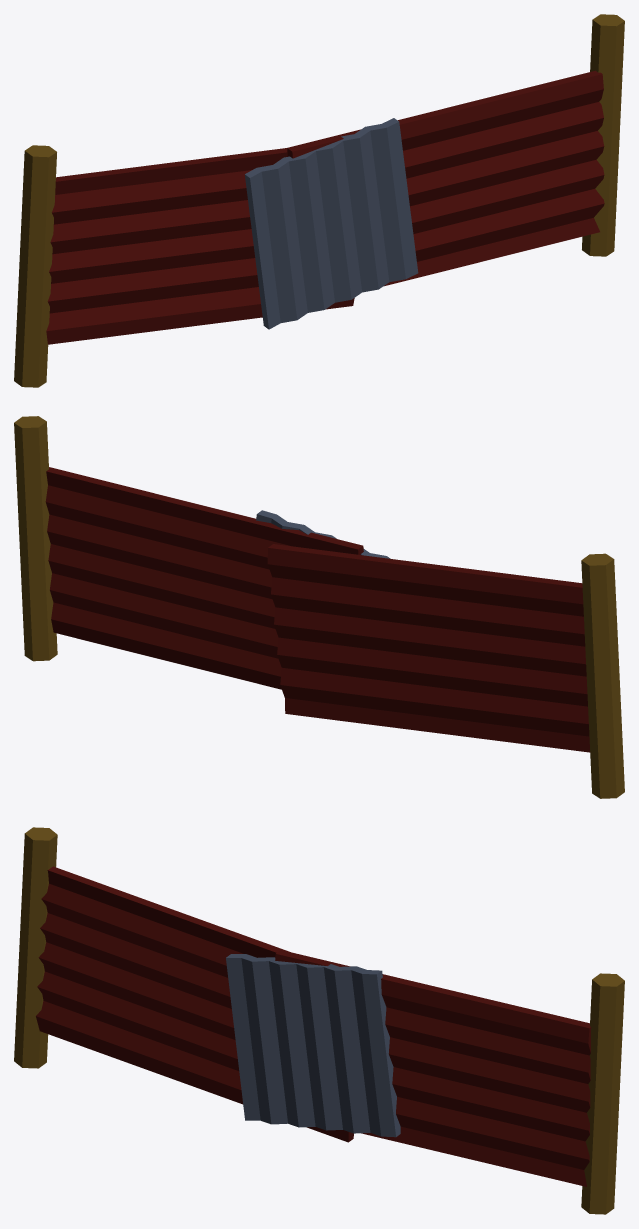
The model's file is FenceElement2.fbx.
3 views of the same model, one above another, from view 1: azimuth 30°, elevation 25°; view 2: azimuth 150°, elevation 25°; view 3: azimuth 330°, elevation 25° (orthographic).
Visible parts, largest first — view 1: FenceElement2; view 2: FenceElement2; view 3: FenceElement2.
Part boxes in pixels (bbox=[...]): FenceElement2: bbox=[14, 14, 624, 387]; FenceElement2: bbox=[14, 416, 624, 798]; FenceElement2: bbox=[14, 827, 624, 1214].
Size of the model in its own units: 618 by 230 by 40.26.
